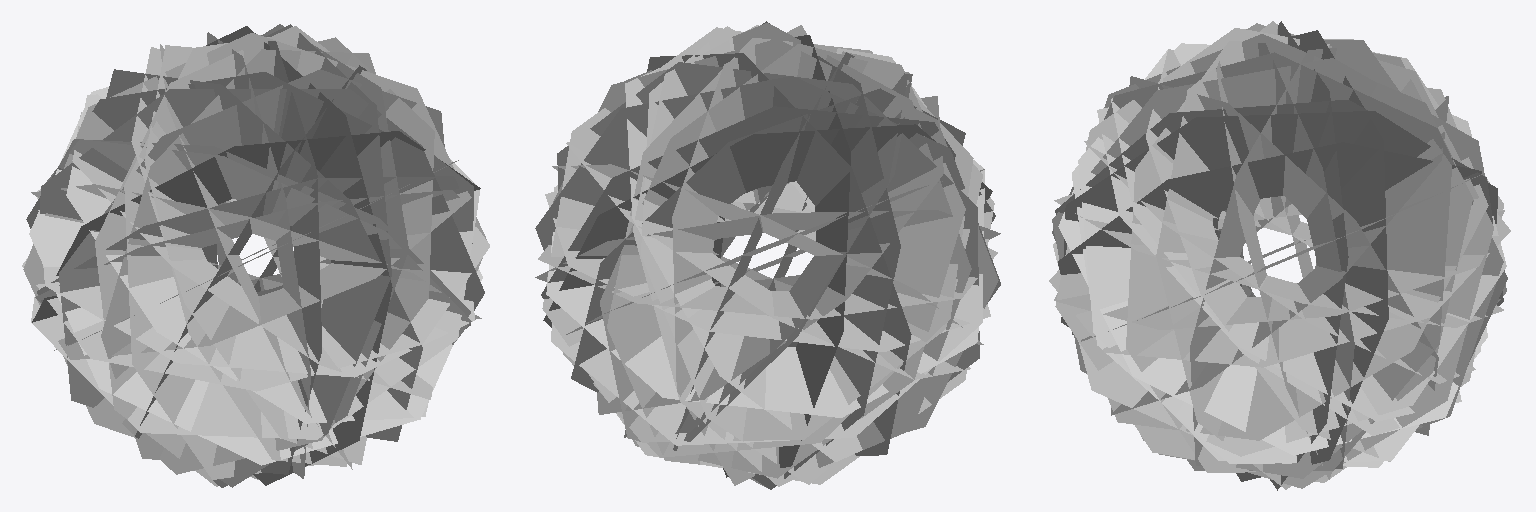
The model's file is CorSun.obj.
3 renders of one model, left to right at view 1: azimuth 30°, elevation 25°; view 2: azimuth 150°, elevation 25°; view 3: azimuth 270°, elevation 25°, orthographic.
Visible parts, largest first — view 1: aoutsideb; view 2: aoutsideb; view 3: aoutsideb.
Part boxes in pixels (bbox=[...]): aoutsideb: bbox=[22, 24, 489, 487]; aoutsideb: bbox=[535, 21, 1000, 489]; aoutsideb: bbox=[1049, 21, 1510, 490].
Bounding box in the file's own units: 5.97 × 5.99 × 5.91.